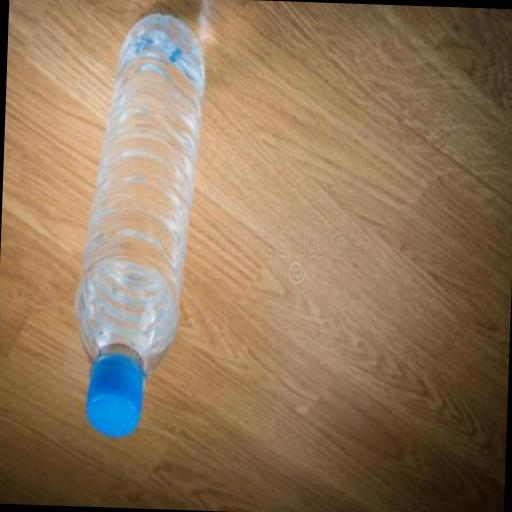Coca: (62, 0, 211, 451)
